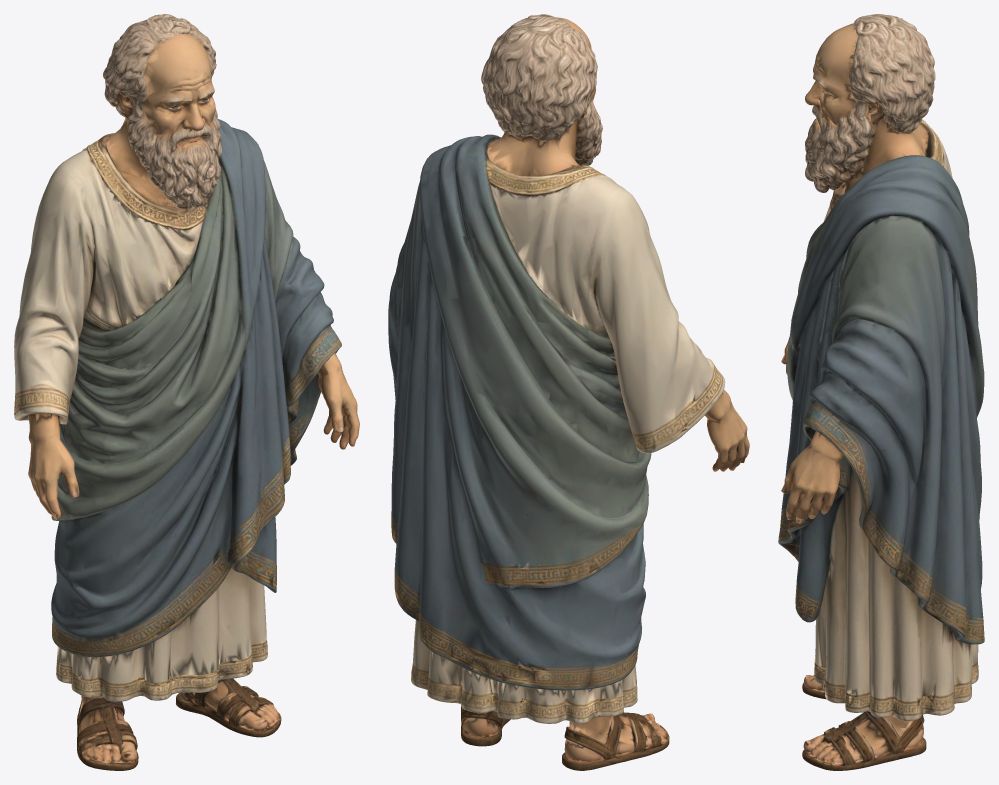
File: socrates.glb
The picture shows the model from 3 angles, left to right: view 1: azimuth 30°, elevation 25°; view 2: azimuth 150°, elevation 25°; view 3: azimuth 270°, elevation 25°; orthographic projection.
Parts seen in each view (by area): view 1: tripo_node_dd55d6e3-3113-4a2c-81de-98c8a65c42e2; view 2: tripo_node_dd55d6e3-3113-4a2c-81de-98c8a65c42e2; view 3: tripo_node_dd55d6e3-3113-4a2c-81de-98c8a65c42e2.
Part boxes in pixels (x1=…): tripo_node_dd55d6e3-3113-4a2c-81de-98c8a65c42e2: x1=14, y1=14, x2=359, y2=770; tripo_node_dd55d6e3-3113-4a2c-81de-98c8a65c42e2: x1=388, y1=14, x2=749, y2=770; tripo_node_dd55d6e3-3113-4a2c-81de-98c8a65c42e2: x1=778, y1=14, x2=984, y2=770.
Size of the model in its own units: 0.464 by 0.9779 by 0.2586.
1 material, 1 textured.
